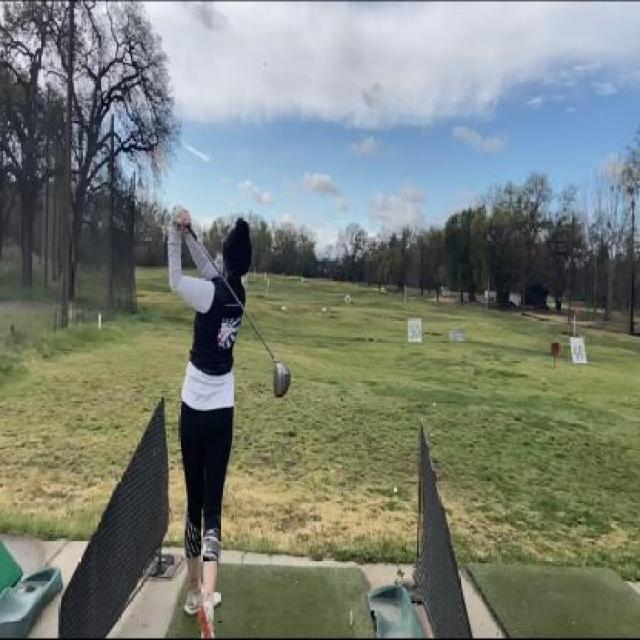club head: (270, 350, 292, 402)
